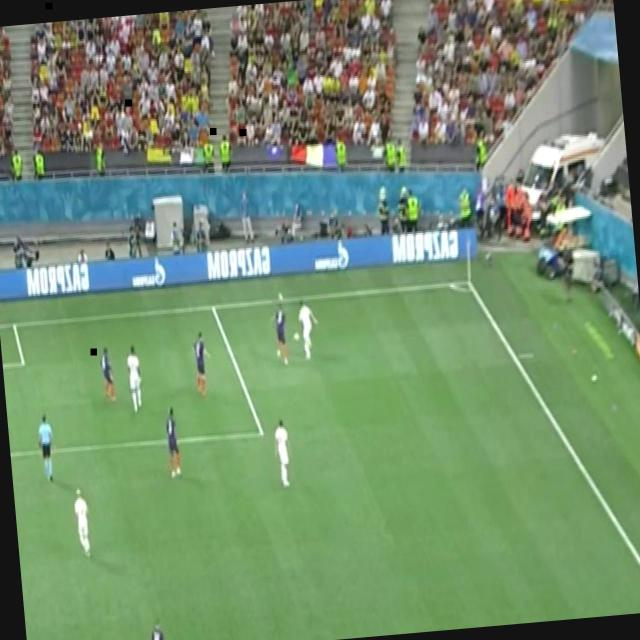ball: (290, 330, 302, 342)
player-white: (265, 291, 293, 371), (34, 408, 61, 484), (161, 404, 187, 481), (122, 339, 148, 416), (190, 328, 217, 402), (296, 293, 322, 364), (270, 414, 294, 490), (71, 486, 95, 560), (98, 343, 122, 407), (144, 613, 169, 640)
